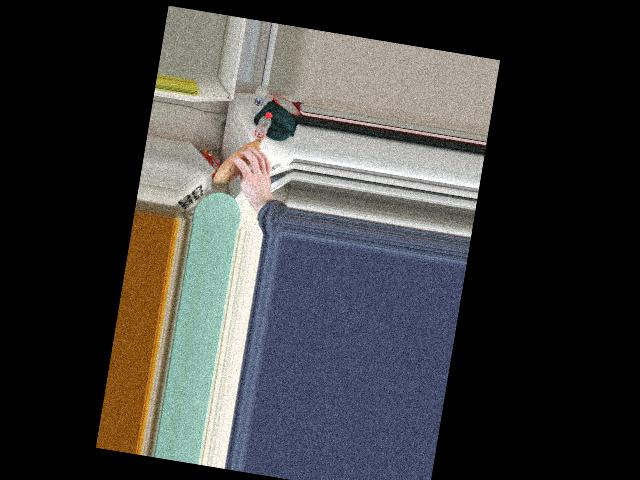sweet_potato: (216, 135, 272, 184)
